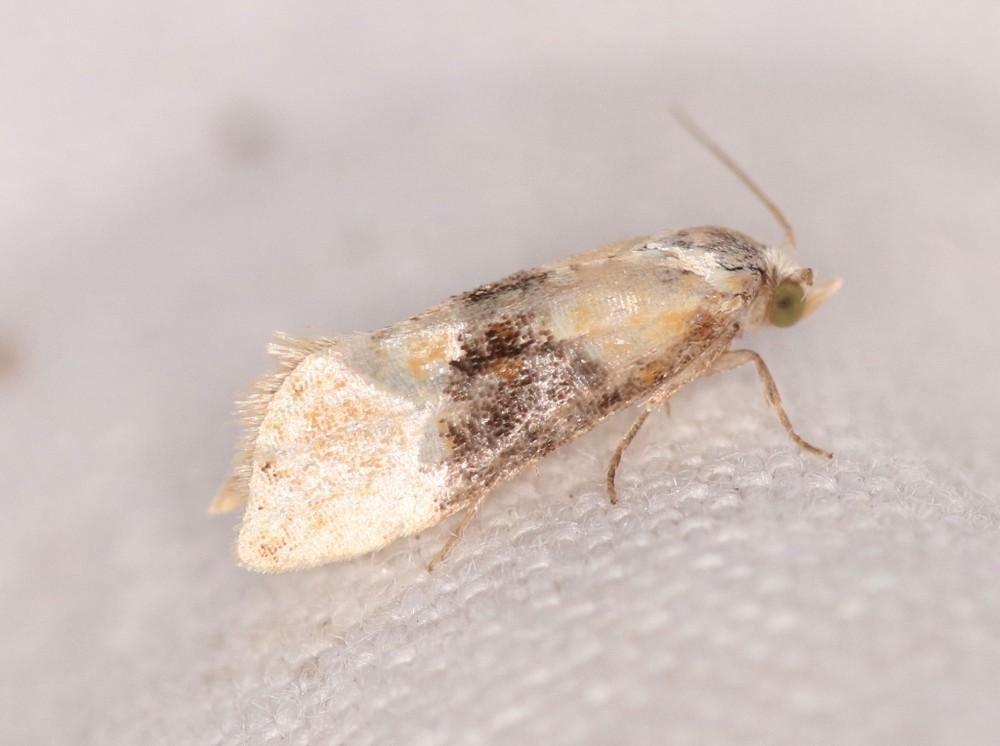Eupoecilia Ambiguella: (206, 100, 845, 578)
